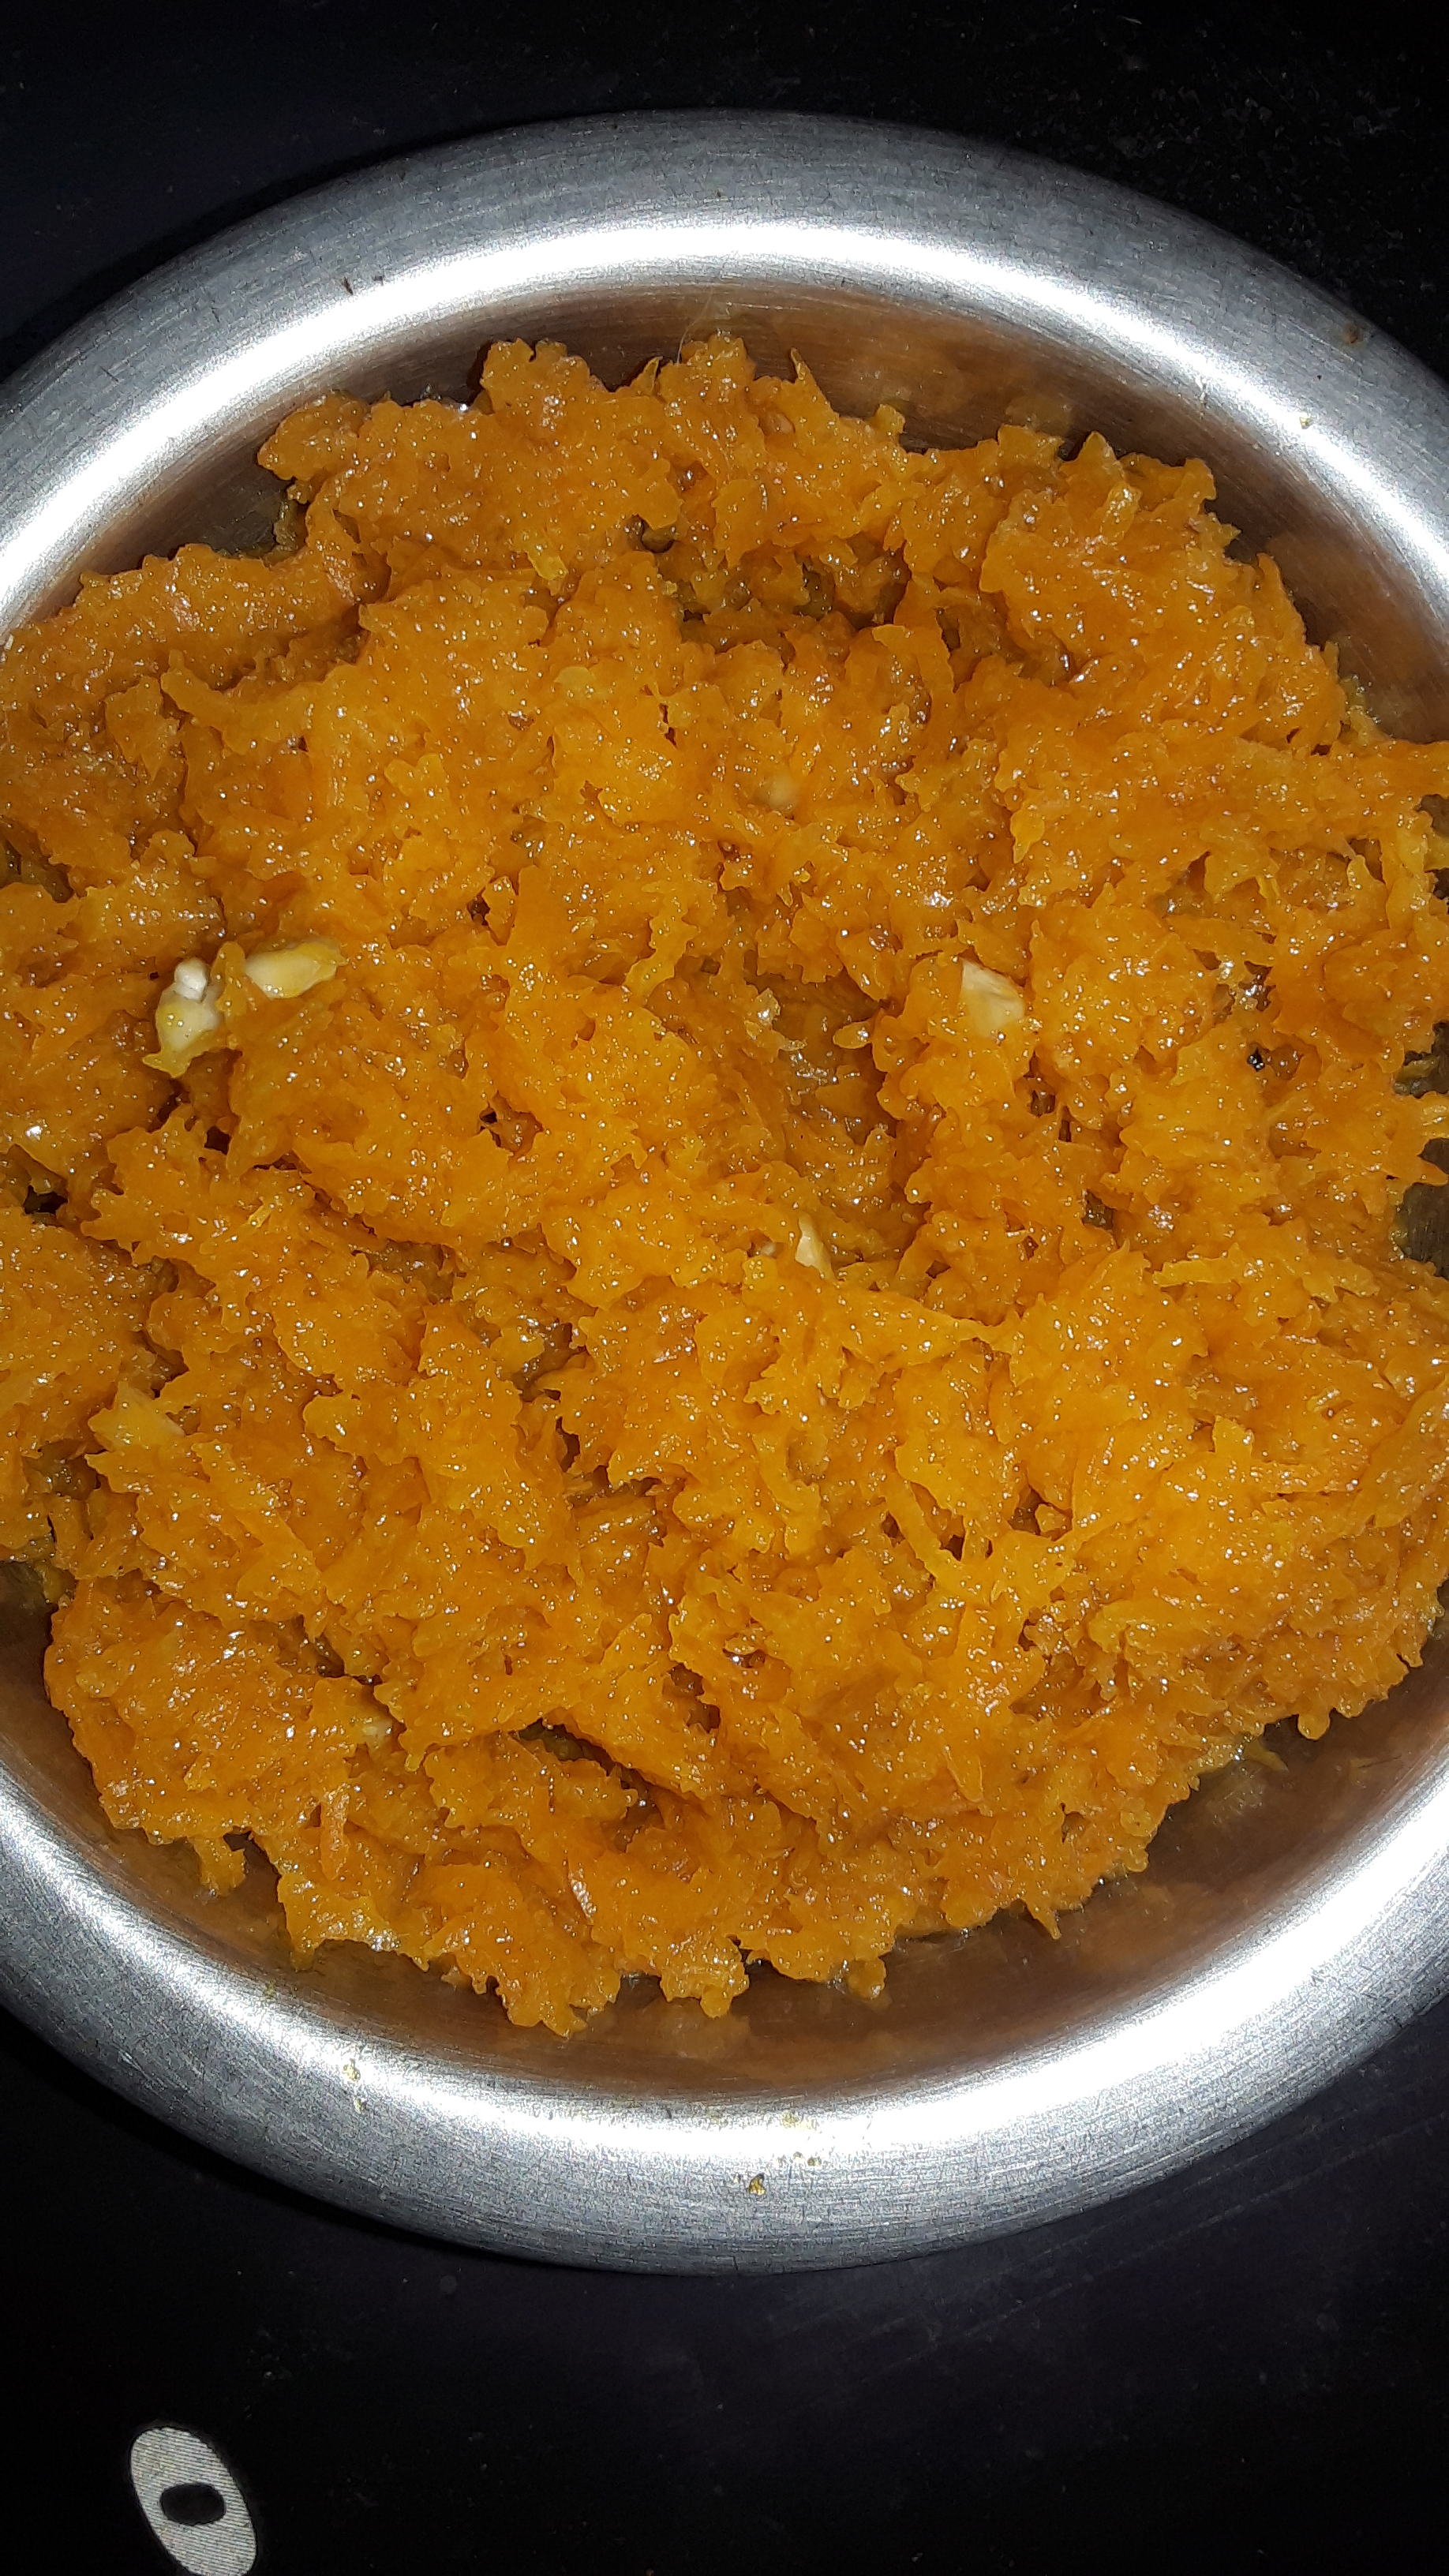food: (0, 310, 1449, 2047)
